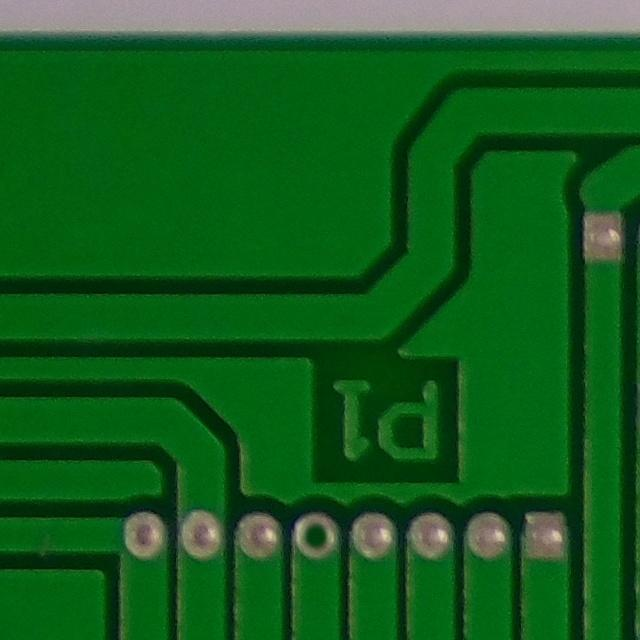missing_hole: (290, 502, 346, 566)
